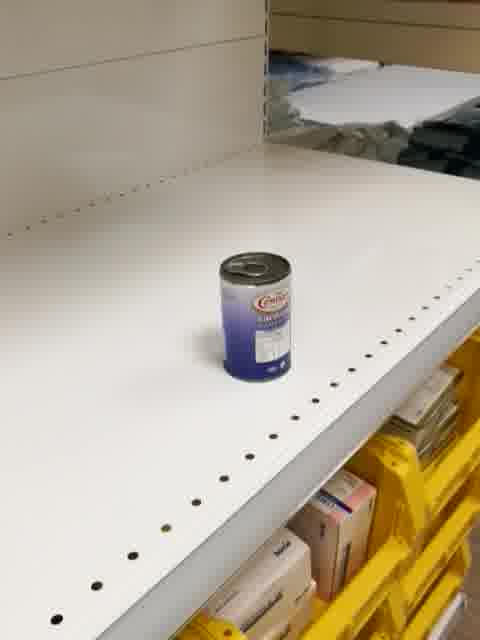sardine: (218, 251, 293, 385)
